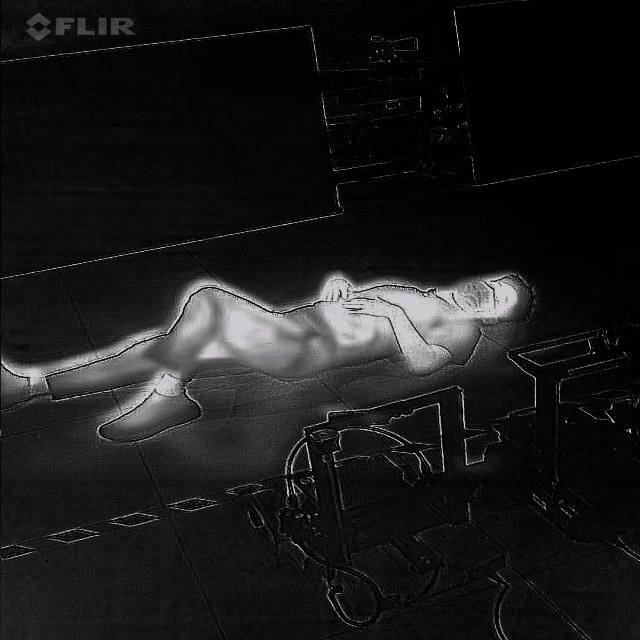Victim: (0, 260, 558, 446)
